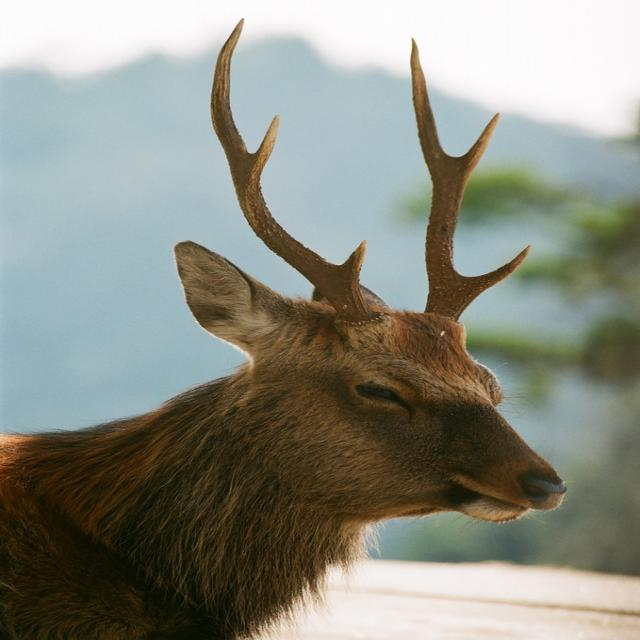Deer: (0, 18, 572, 640)
